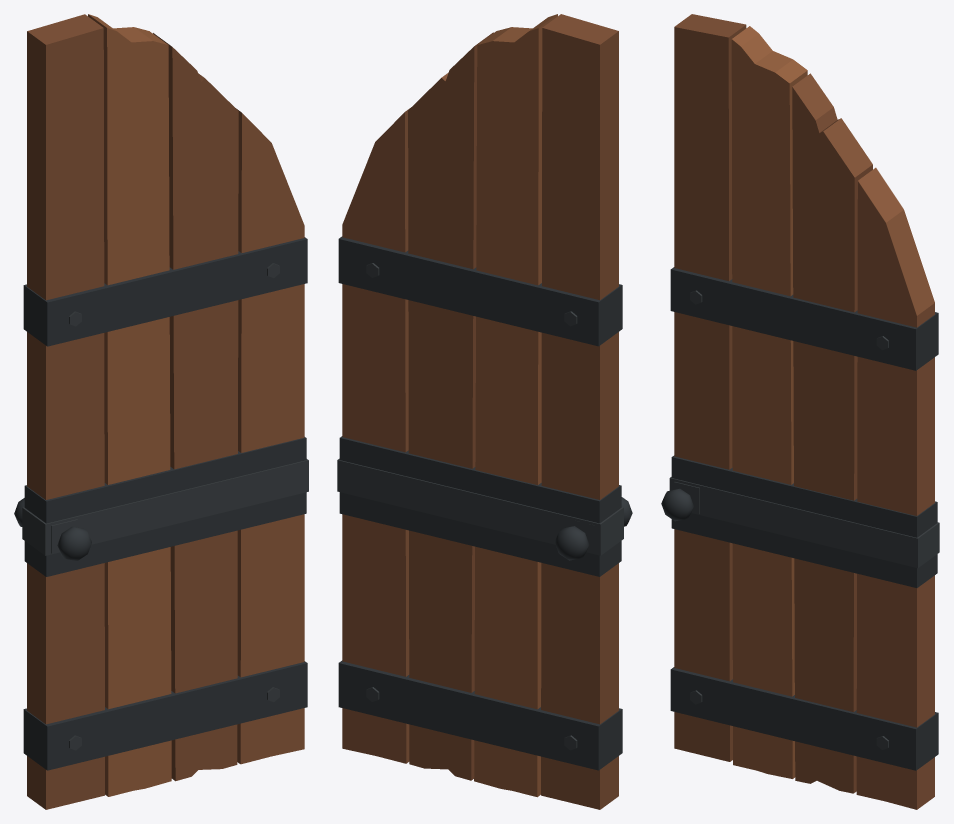
The model's file is CastleDoor_03.glb.
3 renders of one model, left to right at view 1: azimuth 30°, elevation 25°; view 2: azimuth 150°, elevation 25°; view 3: azimuth 330°, elevation 25°, orthographic. The views are drawn at different scales.
Parts seen in each view (by area): view 1: CastleDoor_03_LOD0; view 2: CastleDoor_03_LOD0; view 3: CastleDoor_03_LOD0.
Boxes of the visible parts, box(x1,y1,x2,y2) form: CastleDoor_03_LOD0: box(14, 14, 308, 809); CastleDoor_03_LOD0: box(337, 14, 632, 809); CastleDoor_03_LOD0: box(661, 14, 939, 809).
Size of what is drawn, in the model's own units: 0.9957 by 2.78 by 0.3772.
1 material, 1 textured.
